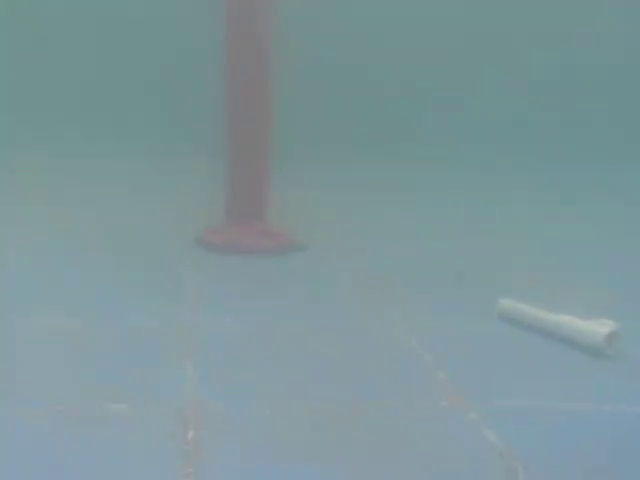flare: (184, 0, 313, 262)
